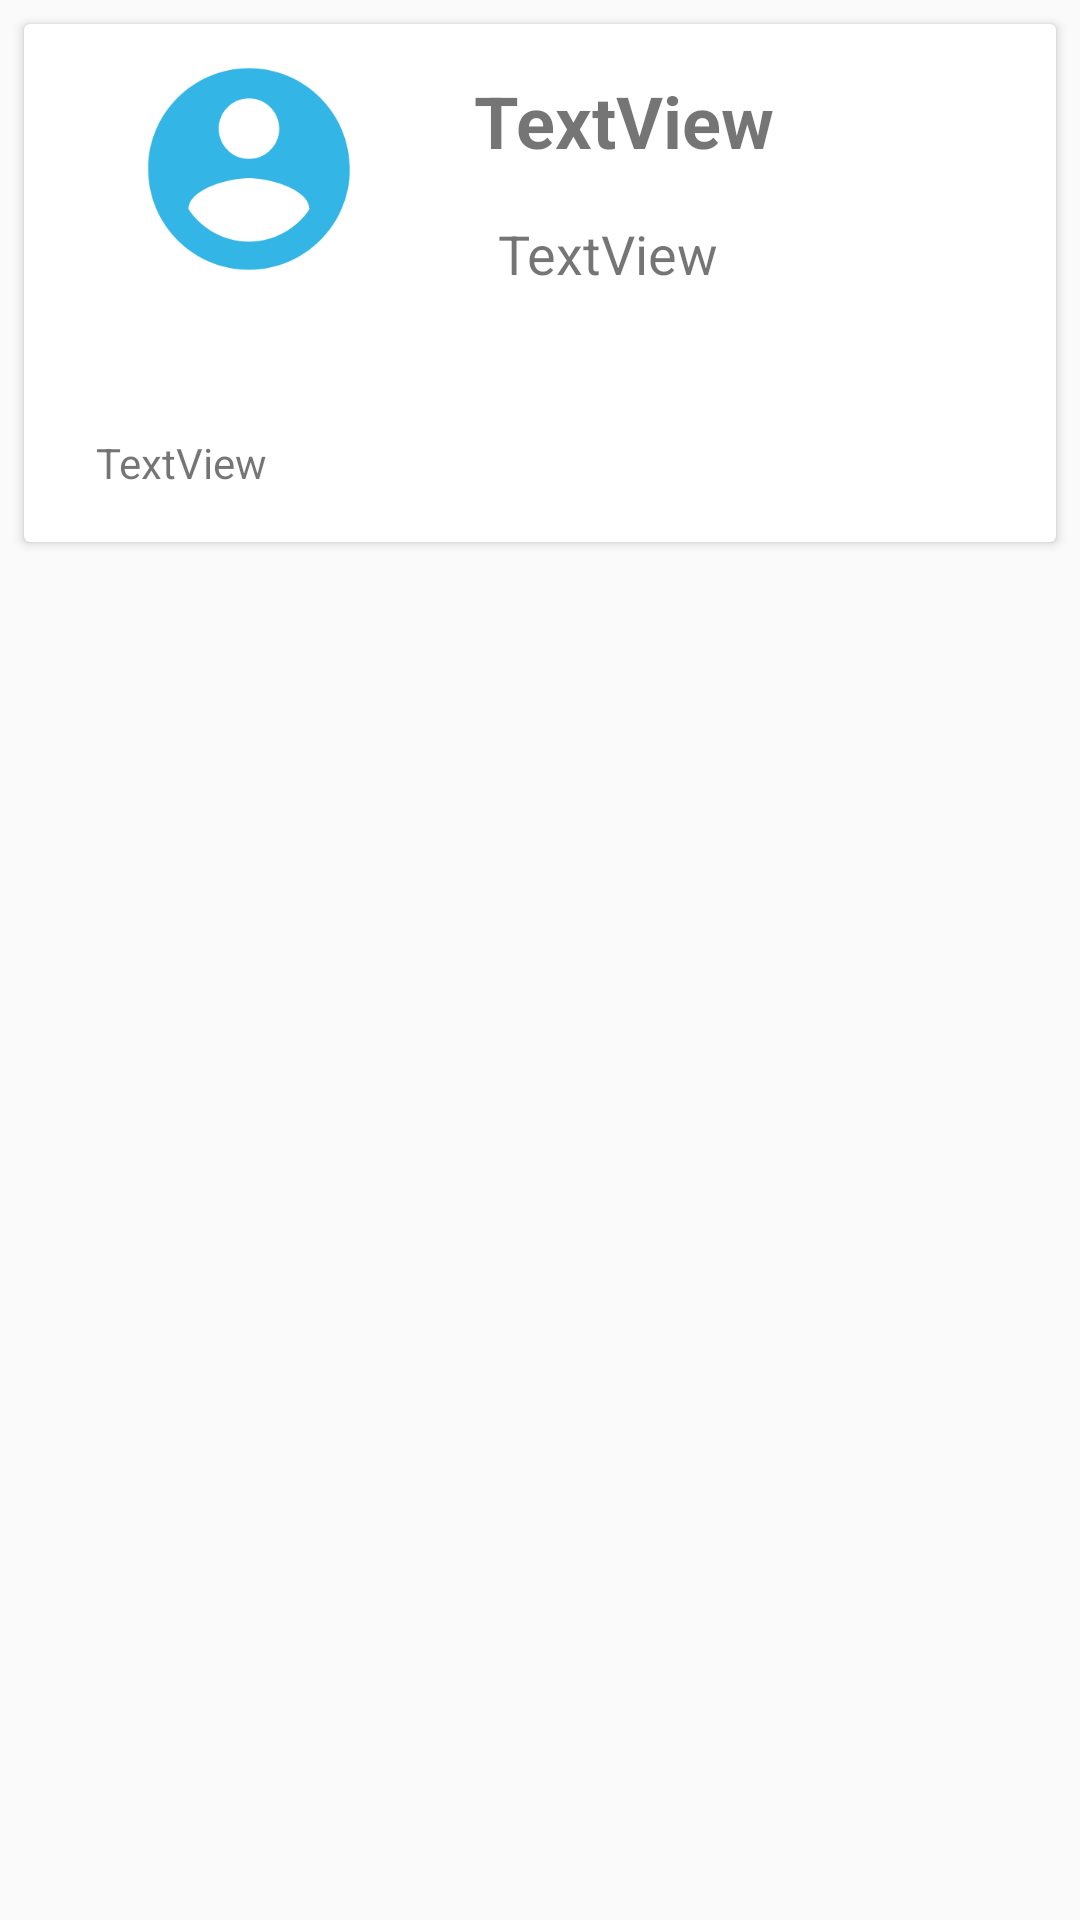

Icon bounding boxes for this 1080 x 1920 phone screenshot, format (x1, y1, x2, y2):
account circle: (148, 68, 350, 270)
